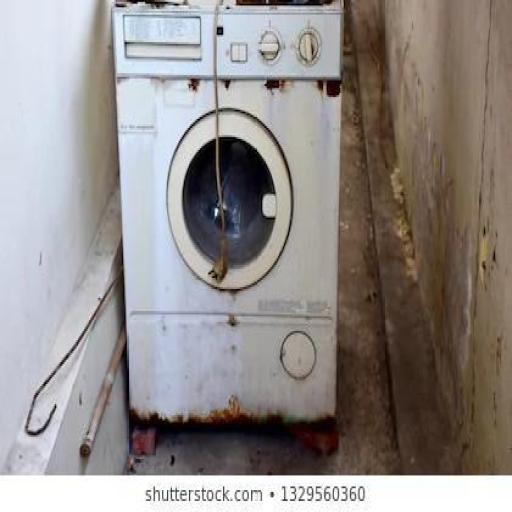segmentation: (327, 80, 340, 95), (266, 78, 281, 88)
